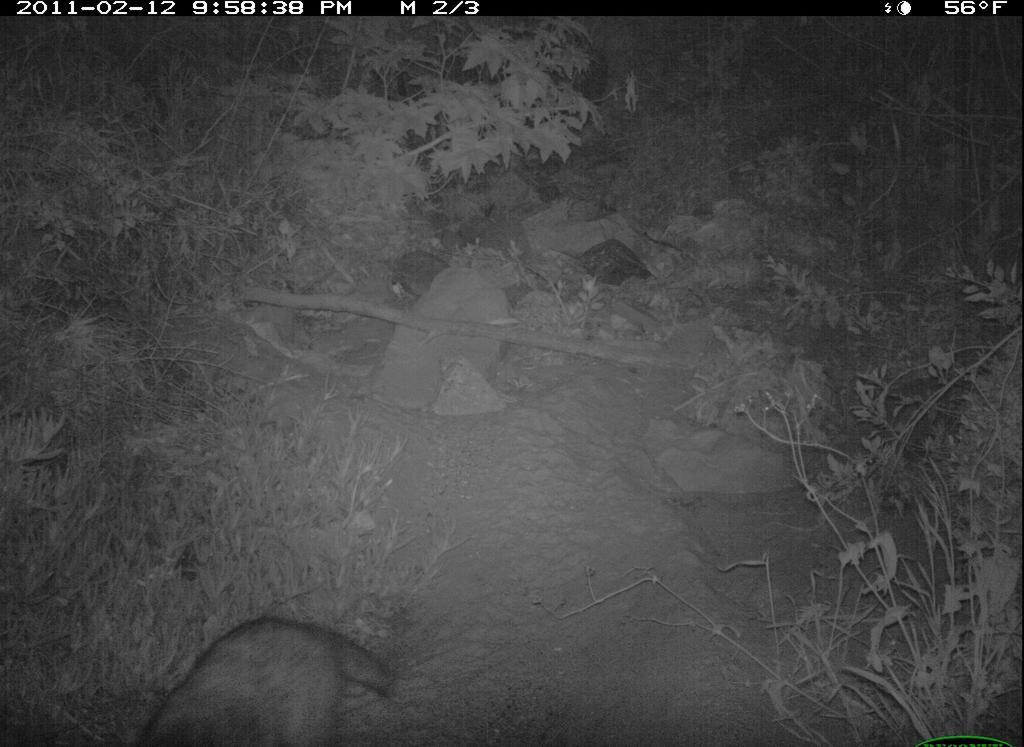raccoon: (139, 614, 402, 747)
